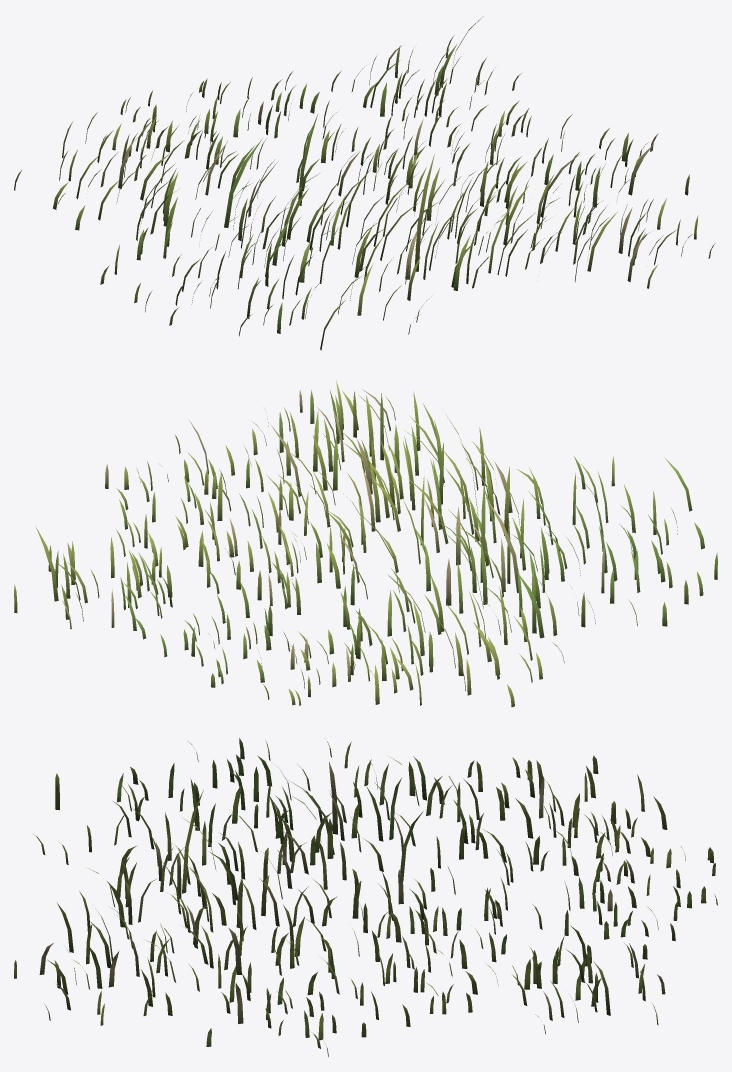
Rendered from eco_turf_meadow_a_LOD1.glb.
3 renders of one model, top to bottom at view 1: azimuth 30°, elevation 25°; view 2: azimuth 150°, elevation 25°; view 3: azimuth 270°, elevation 25°, orthographic. The views are drawn at different scales.
Parts seen in each view (by area): view 1: eco_turf_meadow_a_LOD1; view 2: eco_turf_meadow_a_LOD1; view 3: eco_turf_meadow_a_LOD1.
Boxes of the visible parts, box(x1,y1,x2,y2) form: eco_turf_meadow_a_LOD1: box(14, 16, 715, 350); eco_turf_meadow_a_LOD1: box(14, 381, 717, 707); eco_turf_meadow_a_LOD1: box(14, 738, 717, 1056).
Size of the model in its own units: 1.89 by 0.3471 by 1.86.
